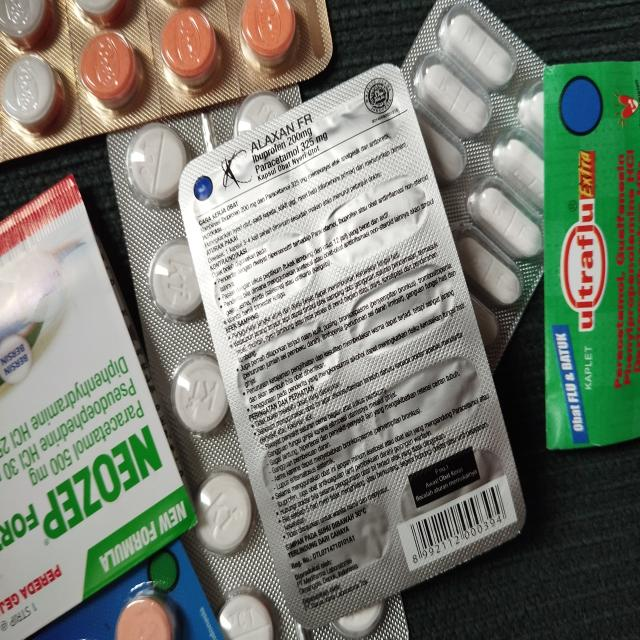B3: (180, 62, 527, 622), (107, 76, 413, 640), (0, 176, 199, 640), (0, 0, 337, 157), (539, 61, 640, 450)
